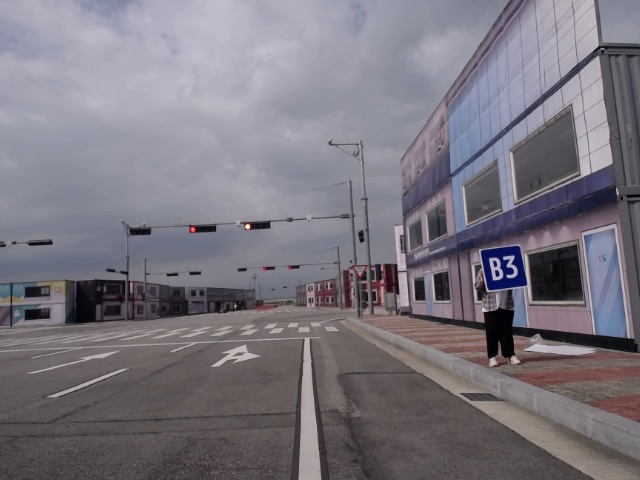delivery_b3: (478, 245, 527, 292)
red_4: (186, 224, 219, 234), (244, 220, 270, 231), (286, 264, 303, 271), (260, 265, 276, 271)
